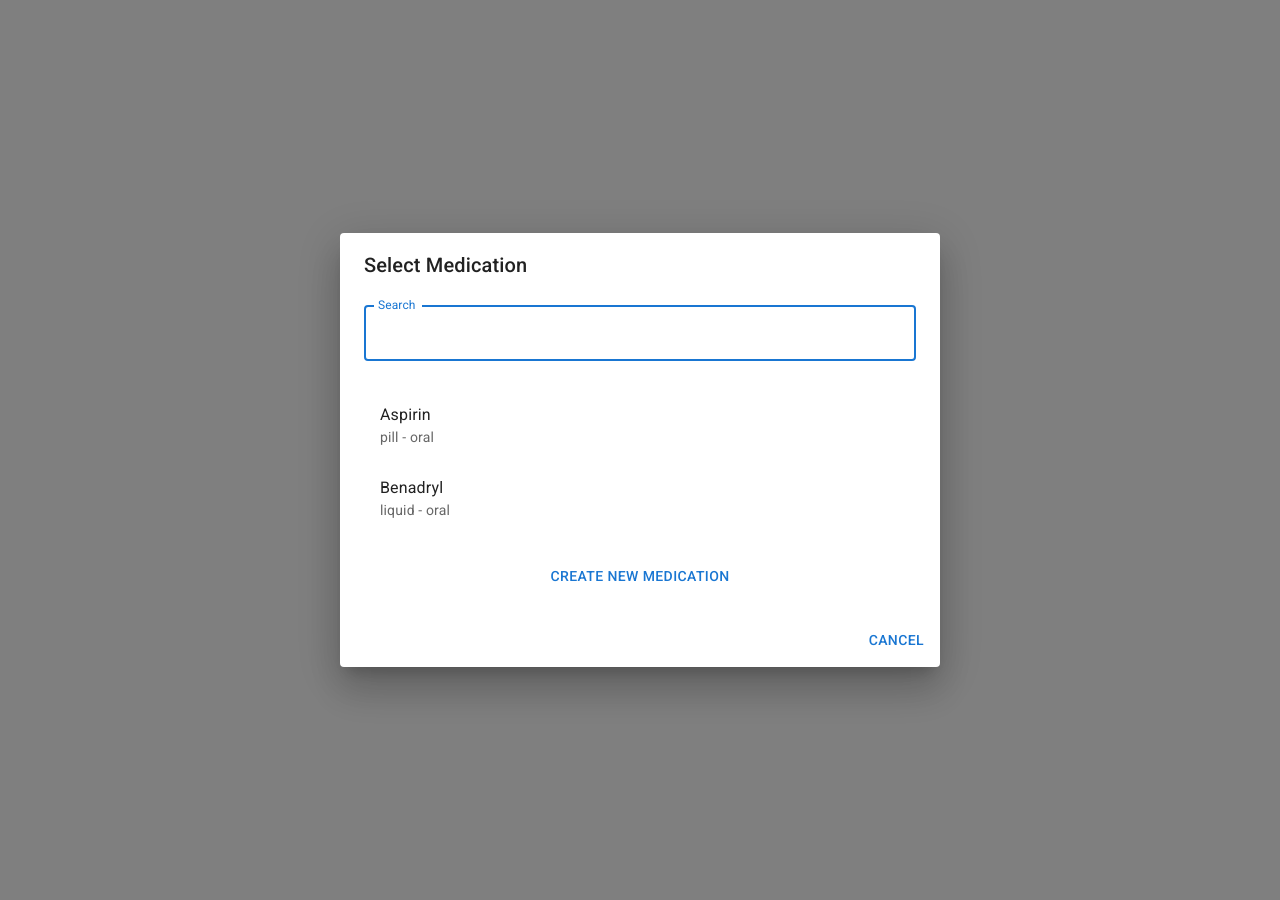
Scenario: MedicationCatalogDialog › should switch to create mode
The image size is (1280, 900).
Click the button "Create New Medication": {"x": 640, "y": 576} [542,558,738,594]
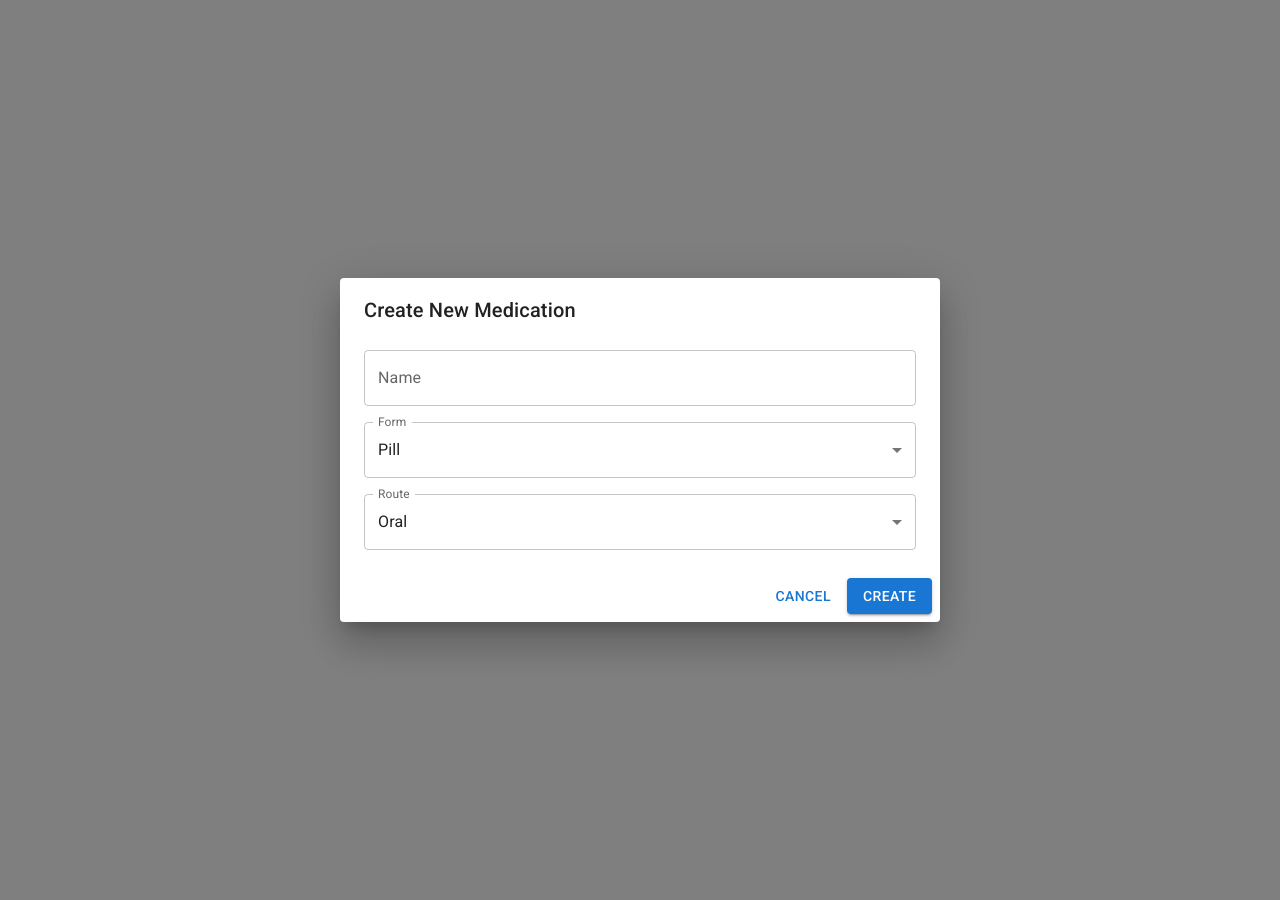
Expected: the heading "Create New Medication" is shown, [364,298,576,322]
Expected: the field labelled "Name" is shown, [364,350,916,406]
